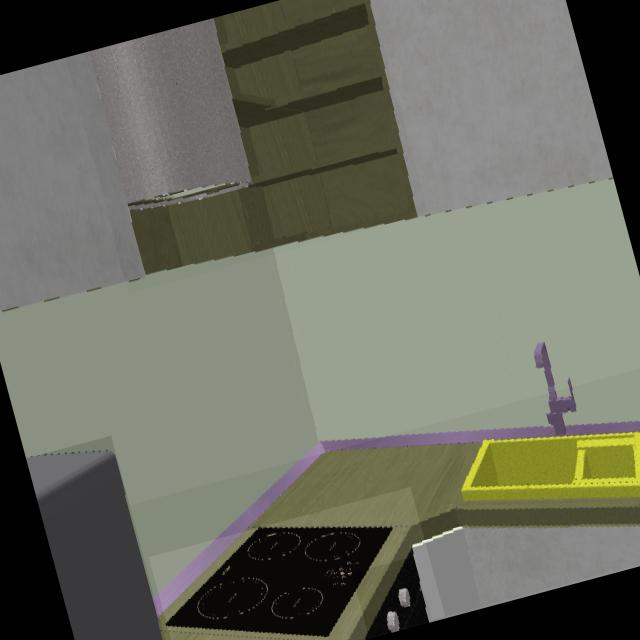countertop: (155, 443, 640, 640)
microwave: (26, 450, 164, 640)
oven: (370, 558, 431, 637)
shelf: (120, 0, 419, 273)
sink: (459, 431, 640, 510)
stove: (167, 524, 423, 640)
